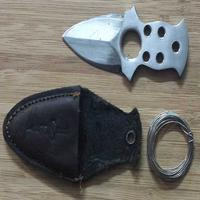knife: (57, 8, 200, 81)
